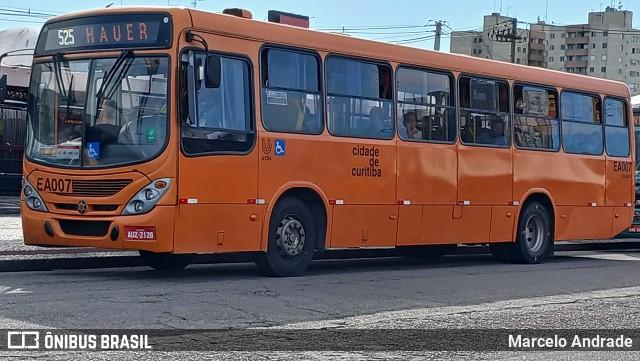HAUER: (80, 20, 152, 46)
